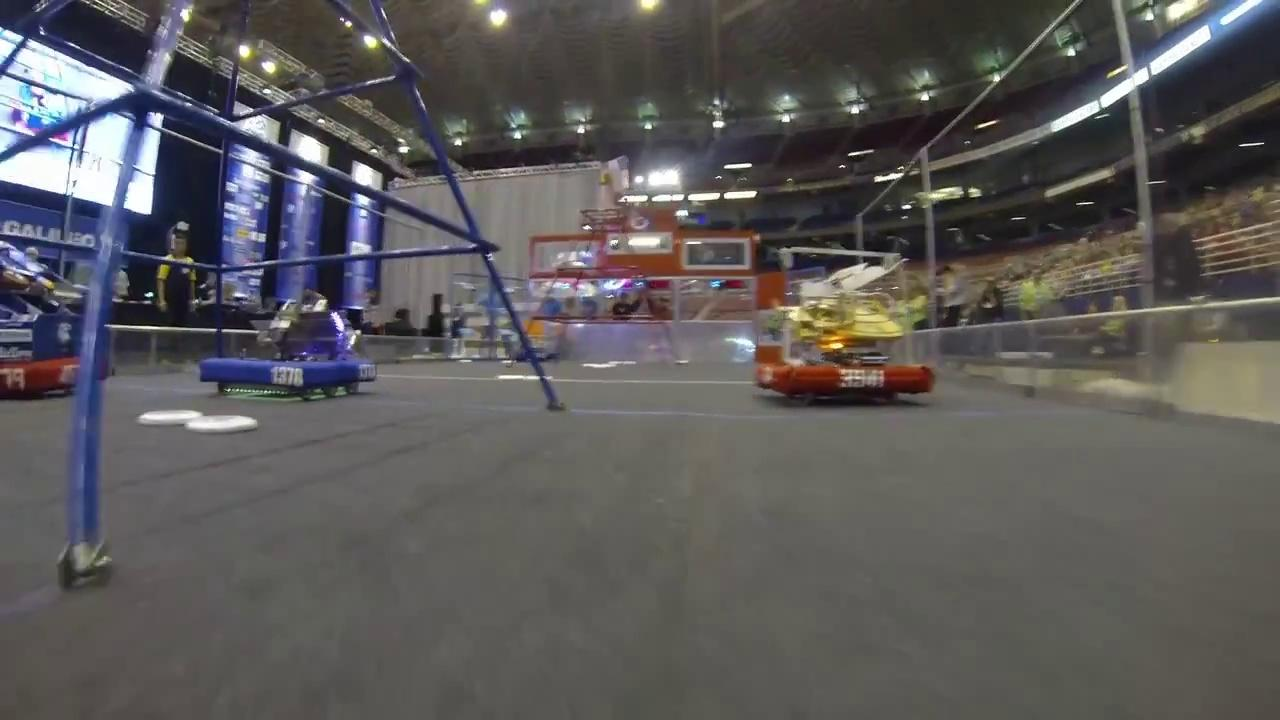robot: (750, 245, 937, 408), (197, 285, 383, 404), (0, 223, 113, 403)
